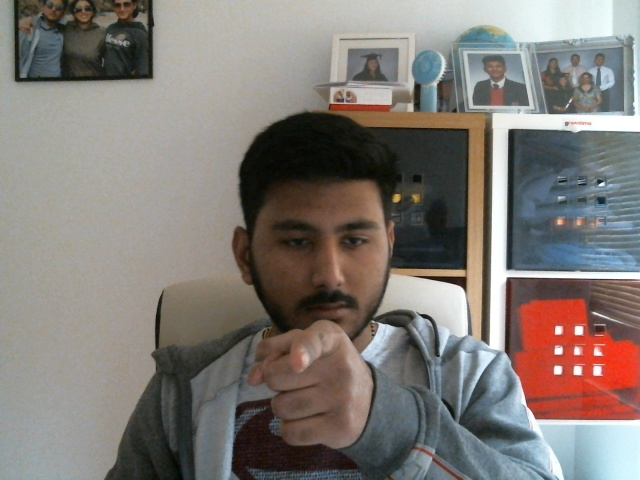you: (245, 318, 351, 444)
